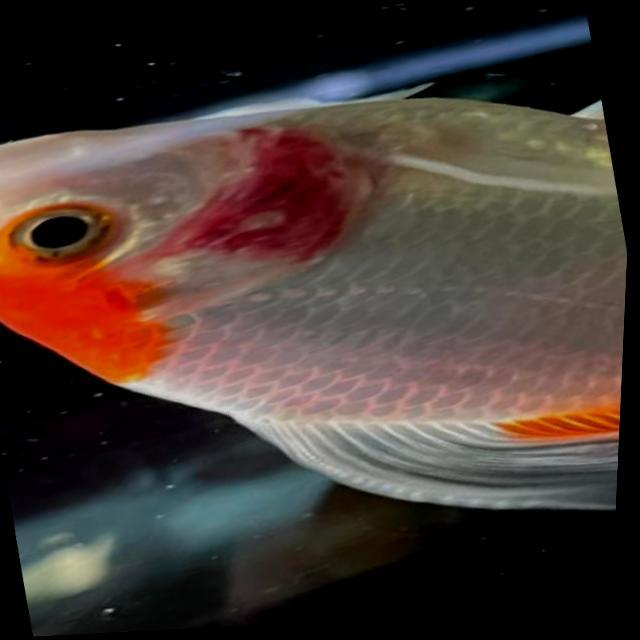Gill Disease: (9, 96, 494, 401)
